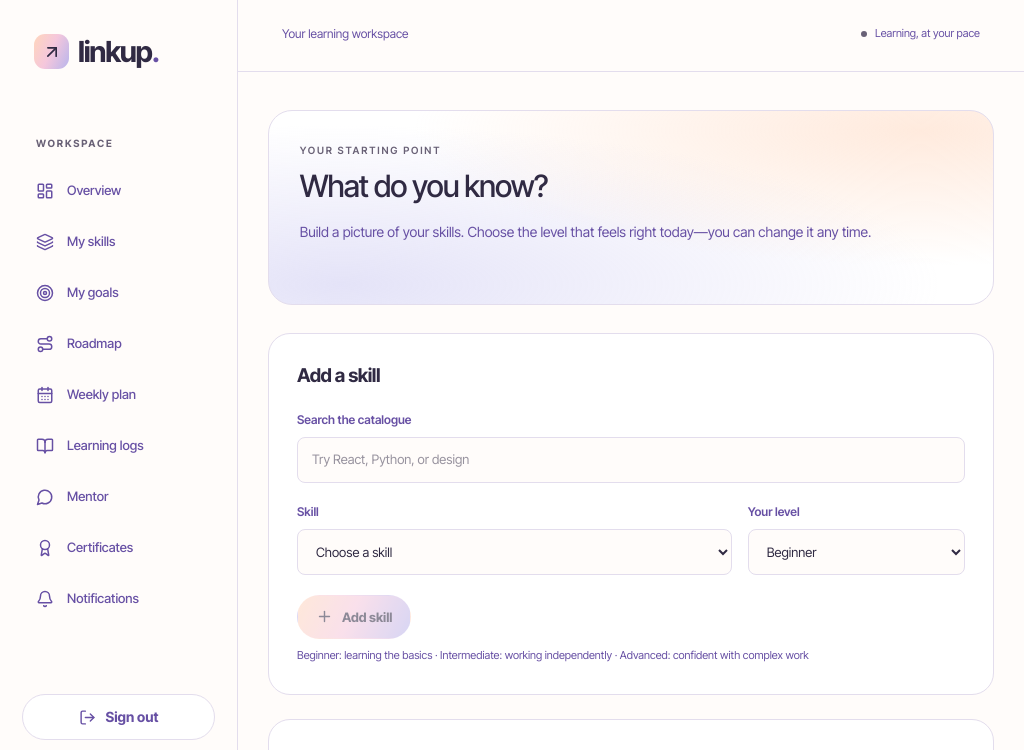
Test case: skill profile screen › adds a skill at the selected level and removes it from available choices
Select "React · Frontend" in the dropdown labelled "Skill" at (514, 552), box [297,529,732,575]
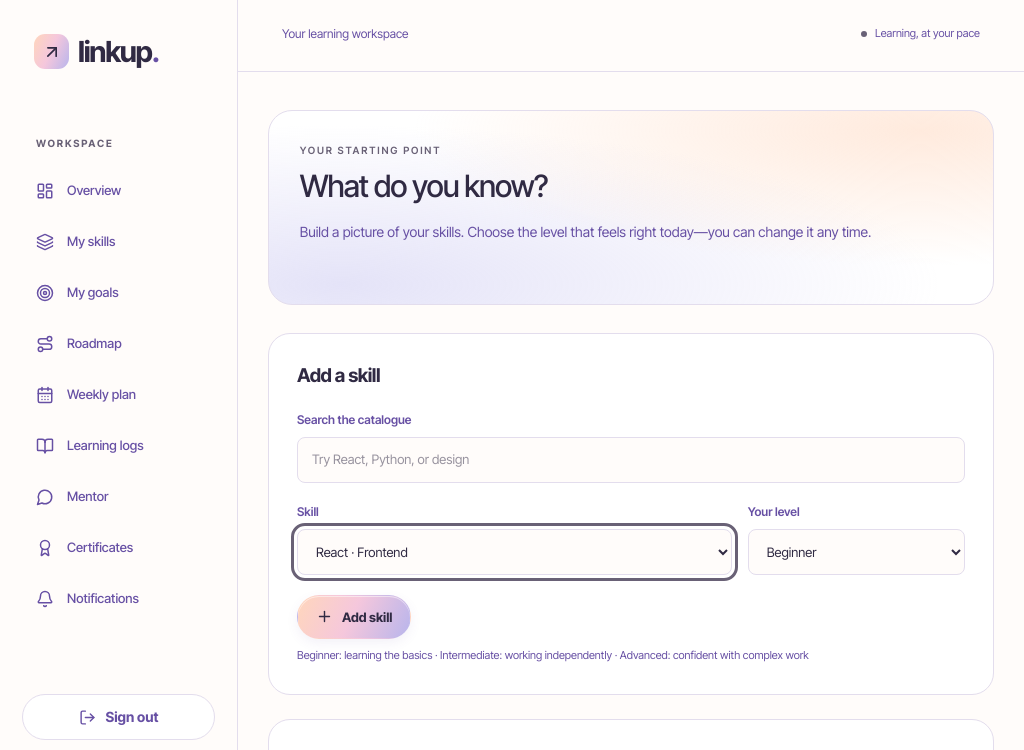
Select "Intermediate" in the dropdown labelled "Your level" at (856, 552), box [748,529,965,575]
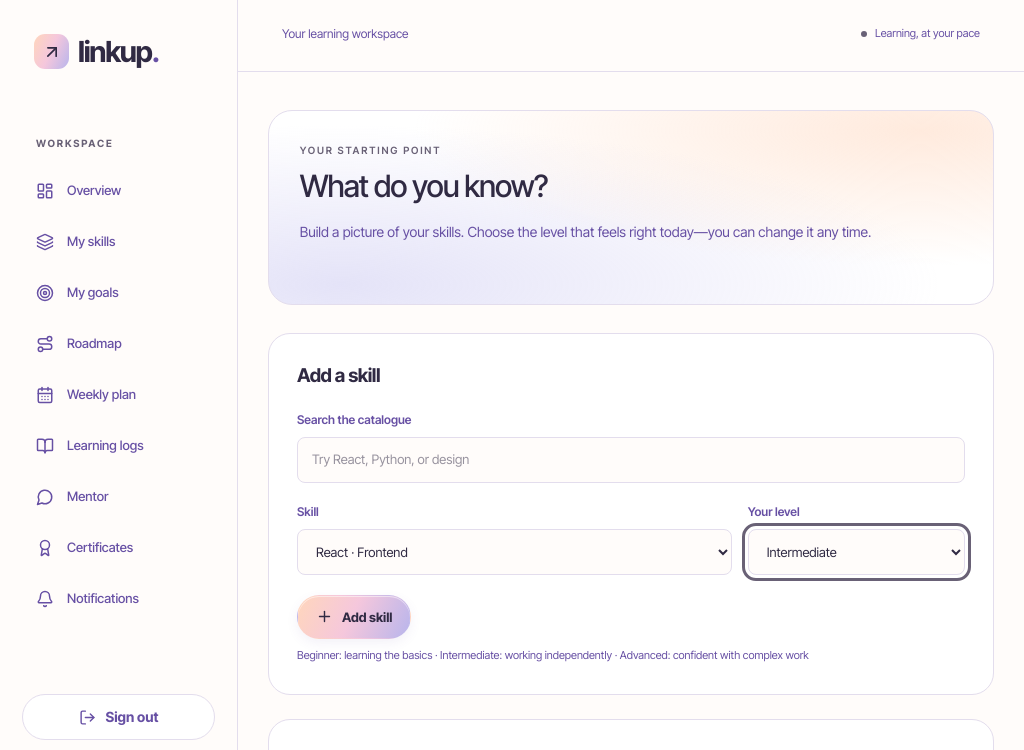
Click the button "Add skill".
click(354, 617)  # box [297,595,412,639]
(page scrolled)
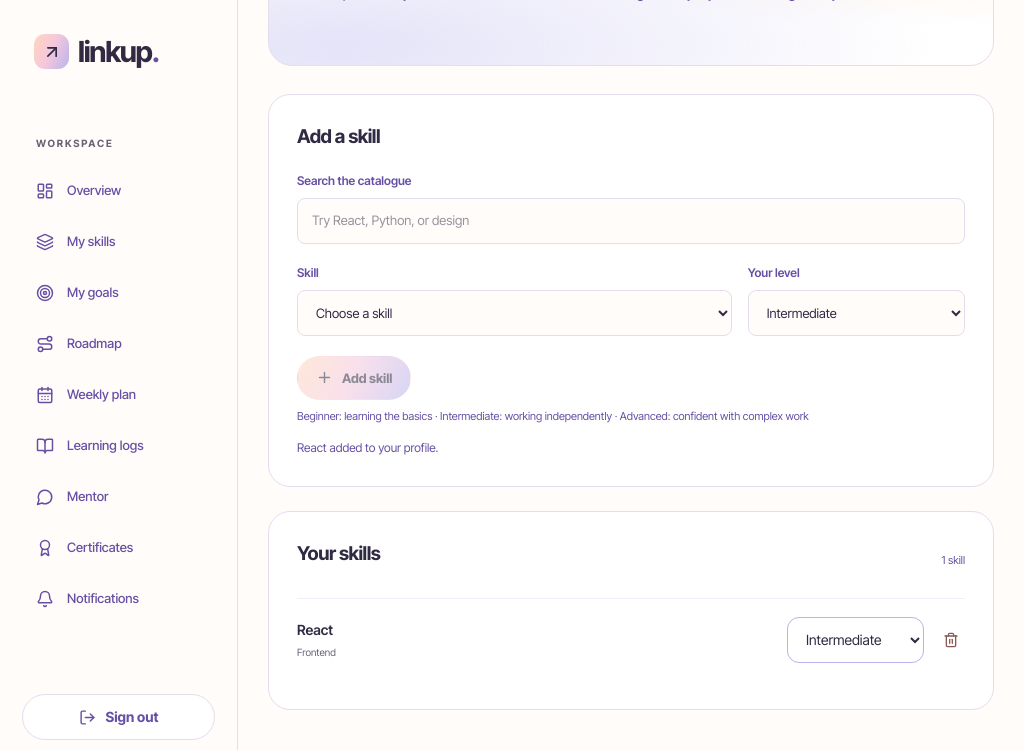
Expected: the option "React · Frontend" is not shown
Expected: the text "React added to your profile." is shown, [297,440,438,455]
Expected: the dropdown named "Level for React" shows "Intermediate", [787,617,924,663]
